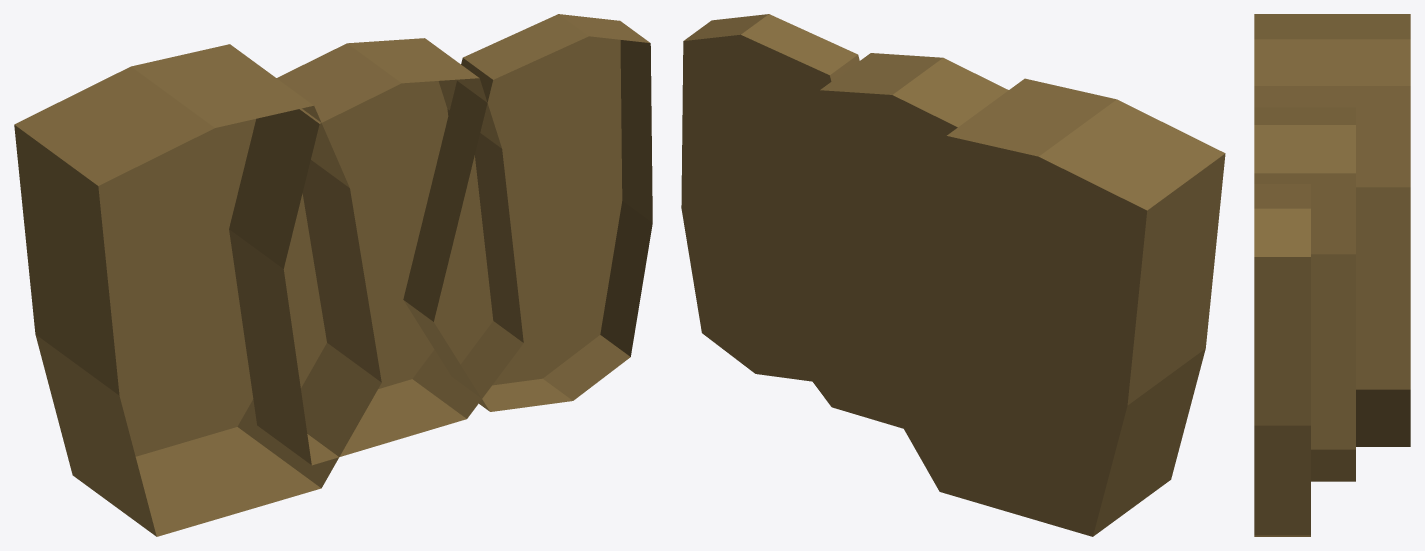
The model's file is Stairs 03.FBX.
3 renders of one model, left to right at view 1: azimuth 30°, elevation 25°; view 2: azimuth 150°, elevation 25°; view 3: azimuth 270°, elevation 25°, orthographic. The views are drawn at different scales.
Parts seen in each view (by area): view 1: Stairs 03; view 2: Stairs 03; view 3: Stairs 03.
Boxes of the visible parts, left/top/right/bottom form: Stairs 03: left=14, top=14, right=652, bottom=536; Stairs 03: left=681, top=14, right=1225, bottom=536; Stairs 03: left=1254, top=14, right=1410, bottom=536.
Size of the model in its own units: 180 by 47.21 by 122.
